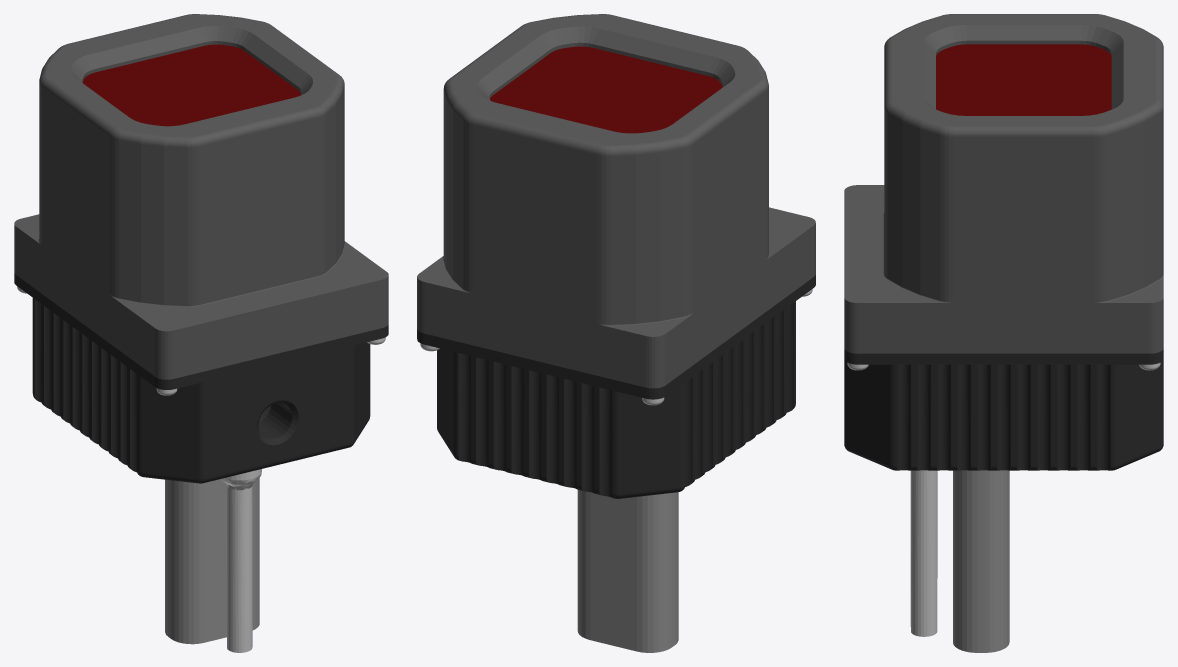
Rendered from flir_adk.dae.
The picture shows the model from 3 angles, left to right: view 1: azimuth 30°, elevation 25°; view 2: azimuth 150°, elevation 25°; view 3: azimuth 270°, elevation 25°; orthographic projection. The views are drawn at different scales.
Visible parts, largest first — view 1: node1, node0, node2, node6, node7; view 2: node1, node0, node6, node2; view 3: node1, node0, node2, node6, node7.
Boxes of the visible parts, x1,y1,x2,y2 form: node1: [14, 14, 388, 379]; node0: [14, 273, 388, 483]; node2: [82, 44, 301, 126]; node6: [165, 478, 259, 644]; node7: [221, 469, 261, 652]; node1: [417, 14, 815, 388]; node0: [417, 274, 815, 498]; node6: [577, 490, 678, 652]; node2: [490, 46, 722, 133]; node1: [844, 14, 1163, 353]; node0: [844, 349, 1163, 470]; node2: [936, 44, 1111, 115]; node6: [953, 470, 1009, 652]; node7: [910, 470, 937, 636].
Bounding box in the file's own units: 35 × 40 × 77.5.
